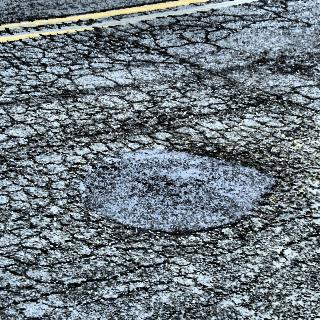alligator-crack: (3, 27, 313, 320)
pothole: (86, 146, 270, 232)
